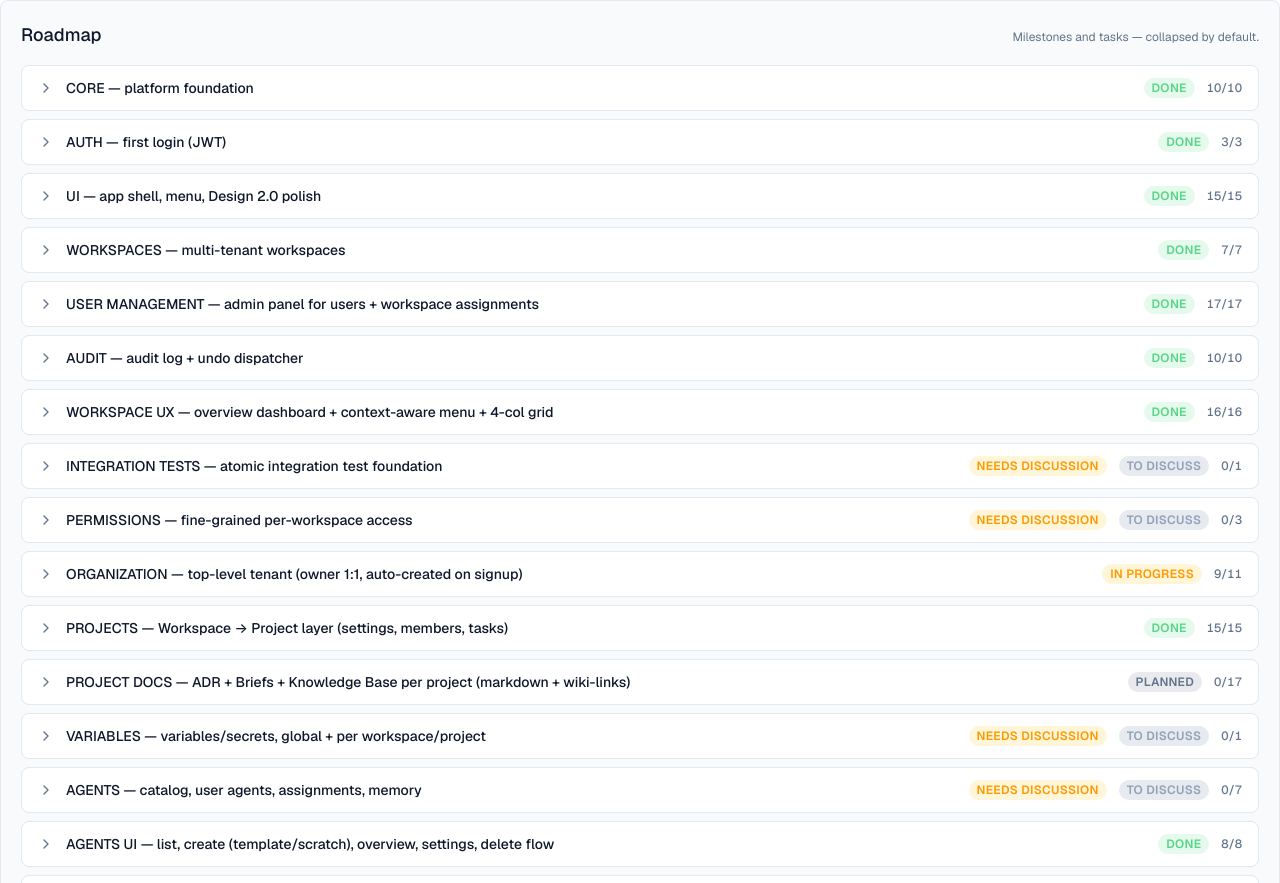
Test: RoadmapPanel › should render the USER MANAGEMENT milestone as done with BL-UM tasks and no Needs discussion pill
expect the heading "USER MANAGEMENT — admin panel for users + workspace assignments" does not show "needs discussion": met, box [38,294,1242,314]
Click the text "USER MANAGEMENT — admin panel for users + workspace assignments": click(302, 304) [66,295,539,313]
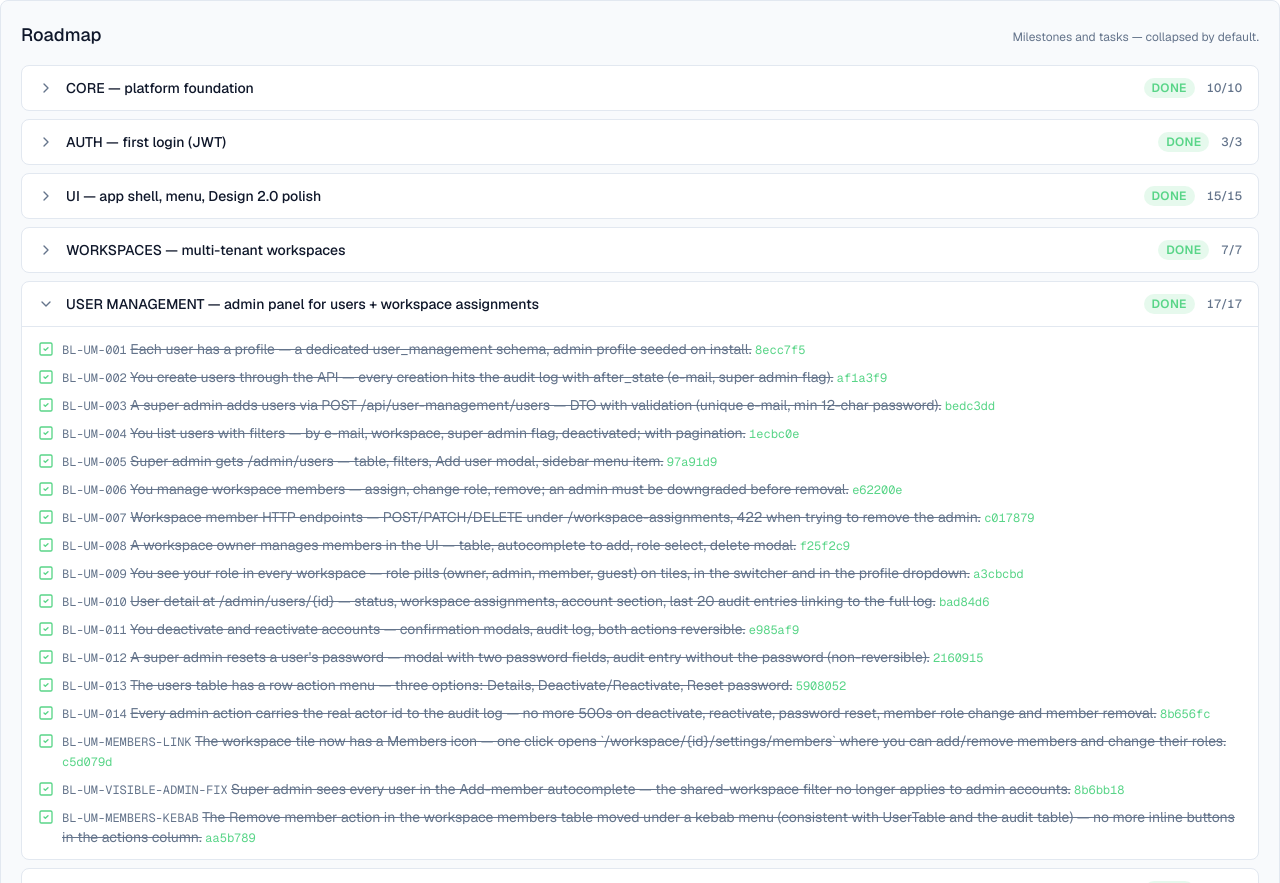
expect the text "BL-UM-001" is shown: met, box [62,342,127,358]
expect the text "BL-UM-012" is shown: met, box [62,650,127,666]
expect the text "Each user has a profile" is shown: met, box [130,340,752,358]
